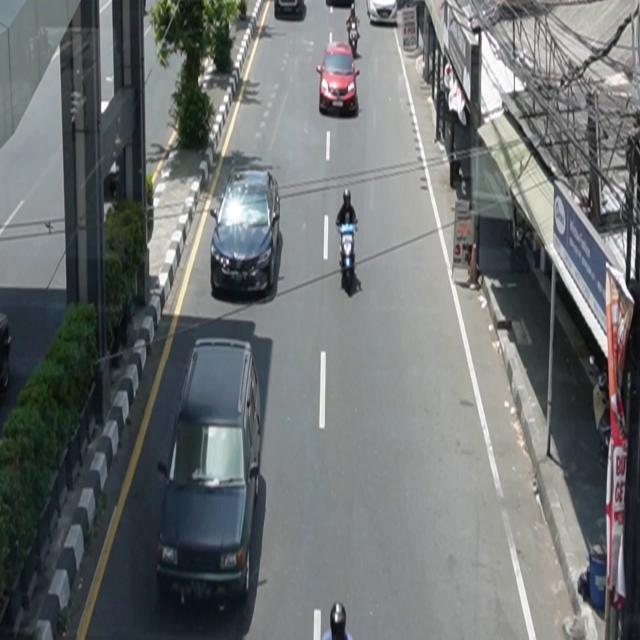car: (156, 338, 262, 612), (211, 166, 282, 298), (317, 41, 361, 117), (367, 1, 398, 26), (275, 1, 306, 18)
